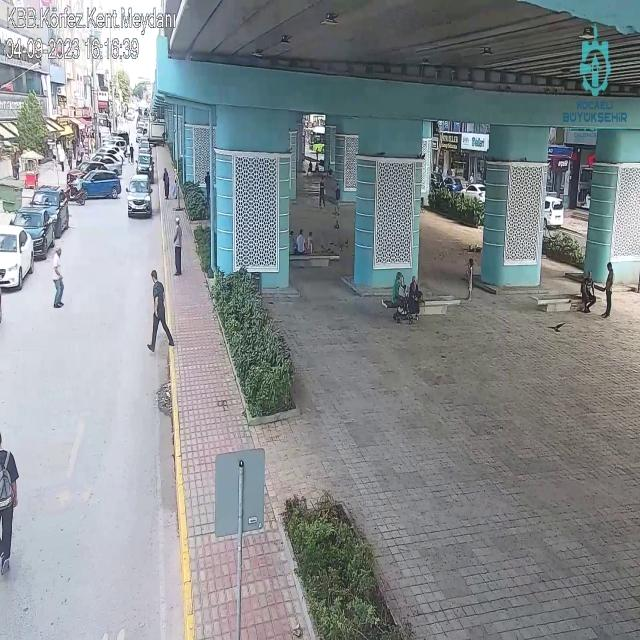Car: (11, 204, 54, 259), (1, 225, 36, 290), (34, 185, 70, 236), (73, 170, 121, 198), (126, 174, 151, 217), (68, 160, 116, 182), (137, 153, 154, 180), (462, 183, 489, 200), (92, 157, 122, 169), (94, 146, 121, 156)
Van: (546, 198, 562, 224)
